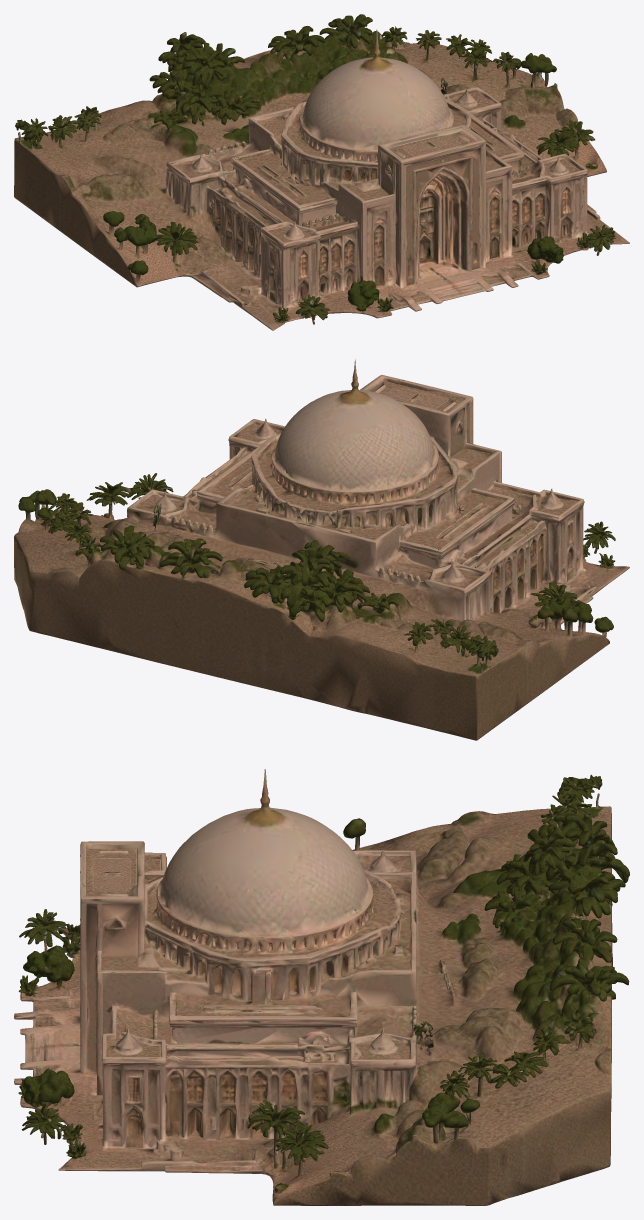
Rendered from domed_hall.glb.
The picture shows the model from 3 angles, top to bottom: view 1: azimuth 30°, elevation 25°; view 2: azimuth 150°, elevation 25°; view 3: azimuth 270°, elevation 25°; orthographic projection. The views are drawn at different scales.
Bounding box in the file's own units: 31.99 × 12.9 × 25.57.
Materials: 1 (1 with a texture image).
